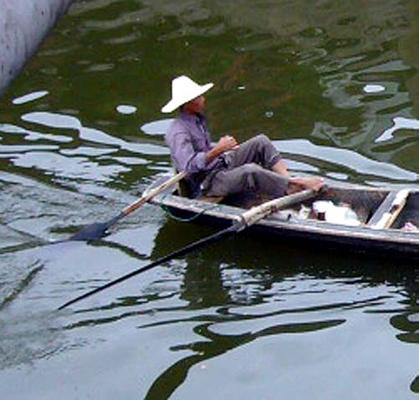person: (163, 74, 325, 201)
